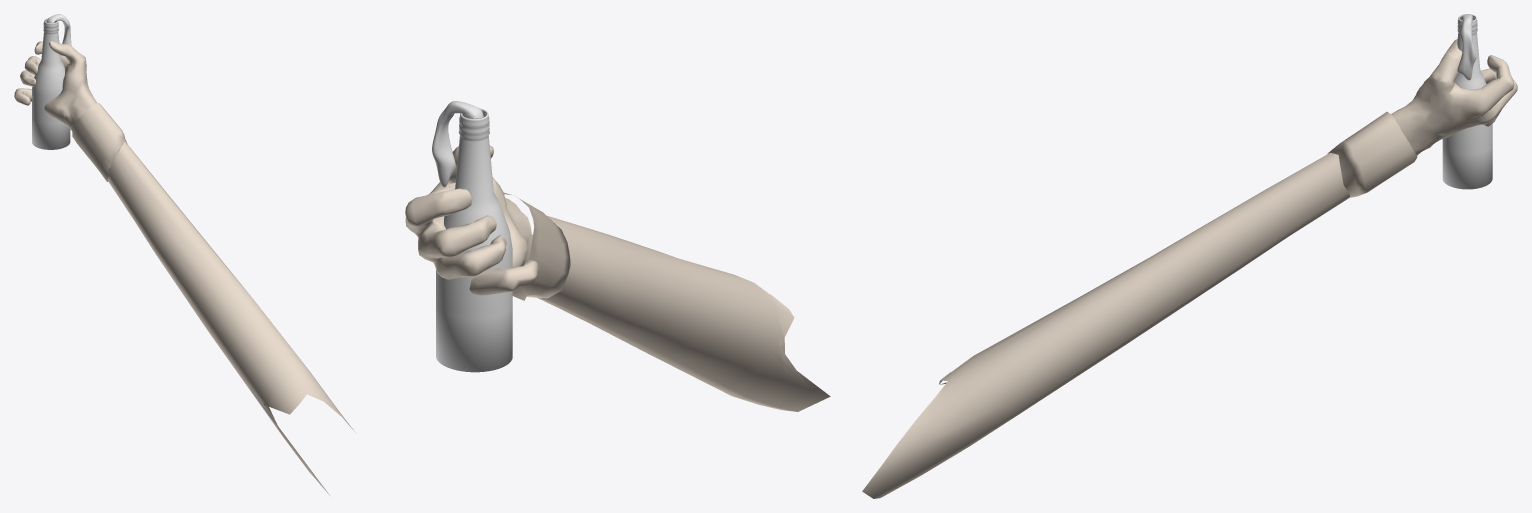
Rendered from molotov.glb.
The picture shows the model from 3 angles, left to right: view 1: azimuth 30°, elevation 25°; view 2: azimuth 150°, elevation 25°; view 3: azimuth 270°, elevation 25°; orthographic projection. The views are drawn at different scales.
Parts seen in each view (by area): view 1: char, body; view 2: char, body; view 3: char, body.
Boxes of the visible parts, <box> form: char: <box>14,41,355,495</box>; body: <box>32,14,71,149</box>; char: <box>405,145,830,411</box>; body: <box>432,101,512,372</box>; char: <box>862,39,1517,498</box>; body: <box>1442,14,1492,189</box>.
Size of the model in its own units: 0.239 by 0.585 by 0.791.
